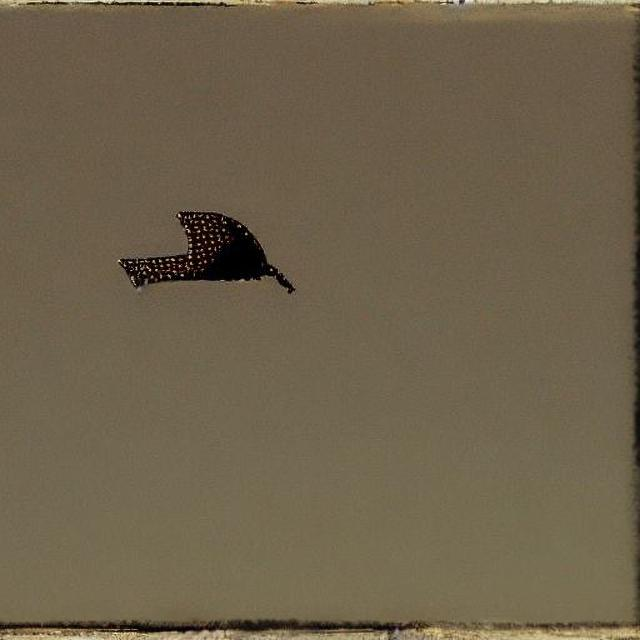floating object: (118, 208, 294, 293)
